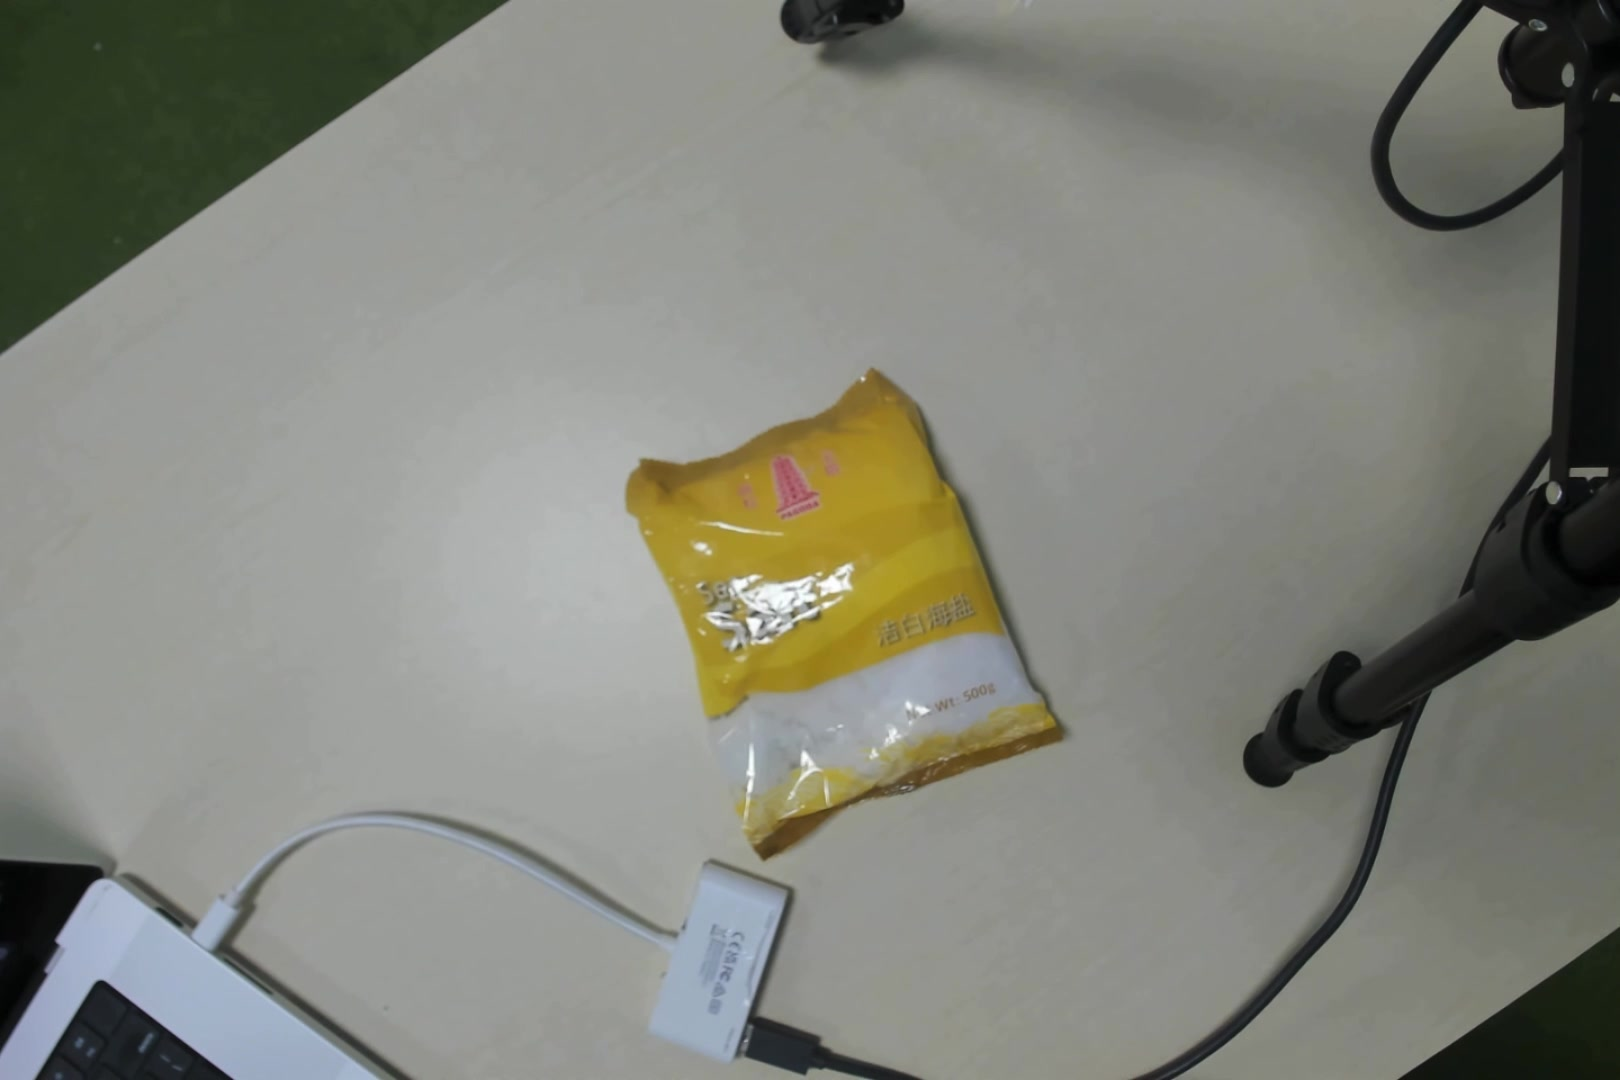Salt_500-599g_Halal_NonHealthy: (663, 392, 1063, 837)
